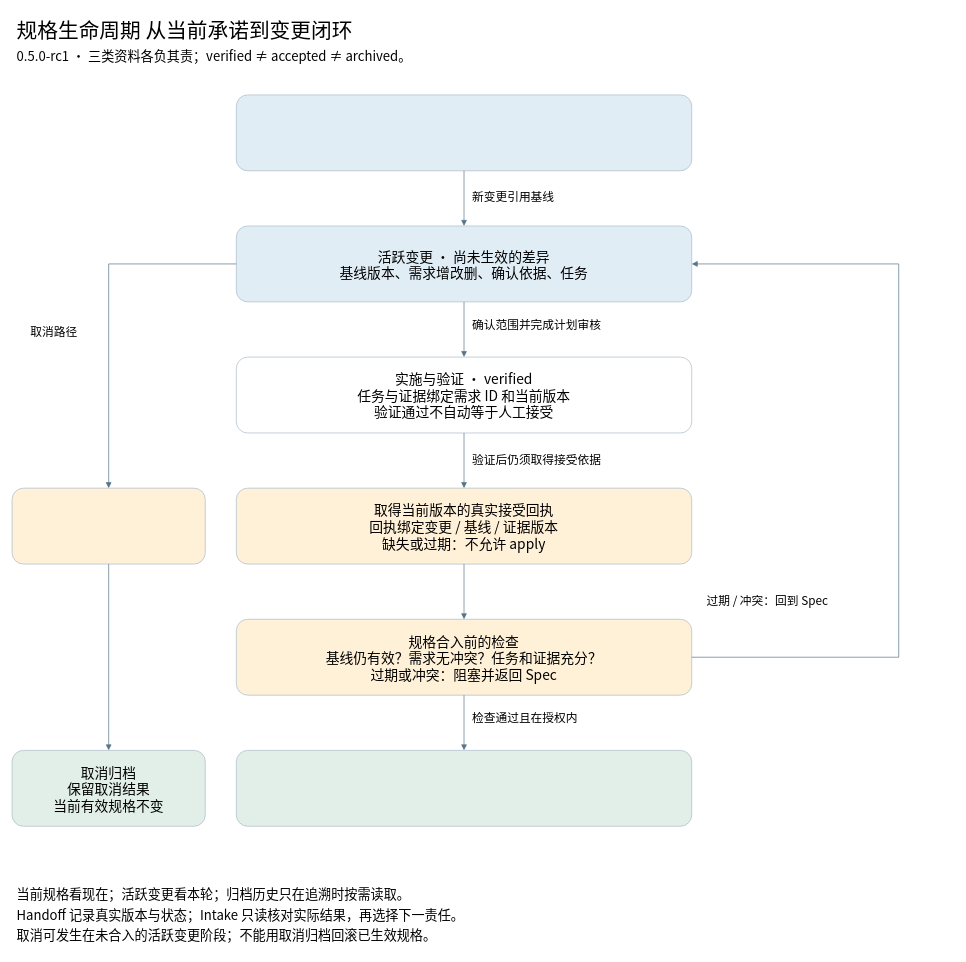
This 966x962 diagram has some shape labels left out. The box of each missing label's shape, as (x1, y1, x2, y2) in pixels:
apply：更新当前规格并标记 accepted archive：移入历史；取消归档不执行 apply 此合入不等于 Git 主分支合并或发布: (236, 750, 692, 826)
取消变更 记录取消依据与原因 不合入当前有效规格: (11, 487, 205, 564)
当前有效规格 · 唯一现行承诺 已确认基线 + 稳定需求 ID + 验收标准: (236, 94, 692, 171)
